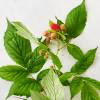Raspberry leaf: (4, 16, 32, 68), (64, 0, 87, 39), (5, 78, 42, 99), (28, 38, 48, 74), (0, 65, 29, 82), (69, 76, 83, 99), (81, 81, 99, 98)
